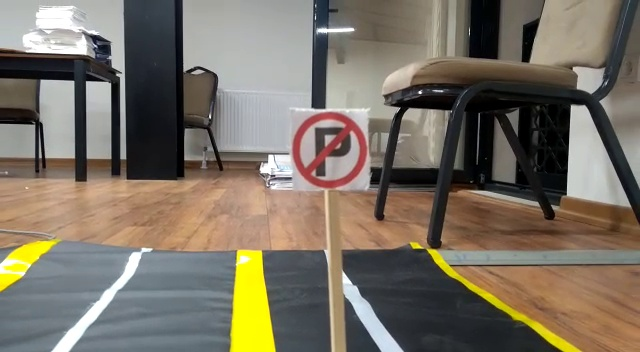park_yapilmaz: (290, 110, 368, 188)
